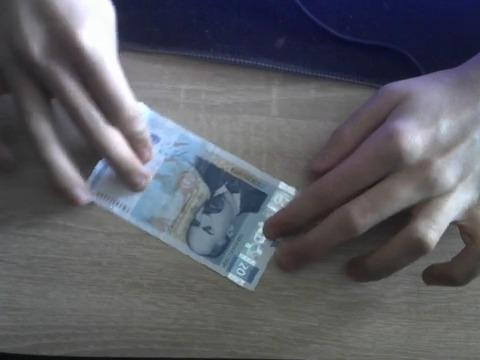20leva: (83, 104, 298, 291)
